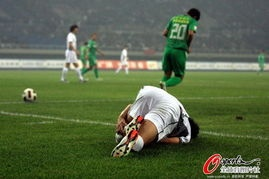falling: (106, 81, 201, 157)
